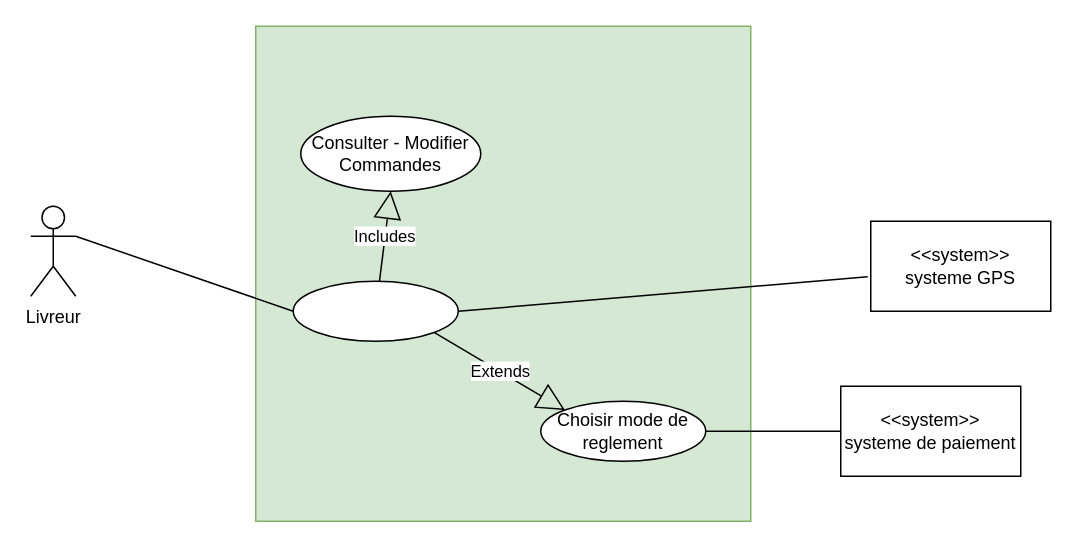
Image size: 1077x548. Some labels were removed from this diagram. The shapes that lost their labels are listed below. From the top down, each one's box as (x1, y1, x2, y2) in pixels, then its label:
(254, 25, 751, 521): system - Livrer
(292, 280, 458, 341): Livrer
